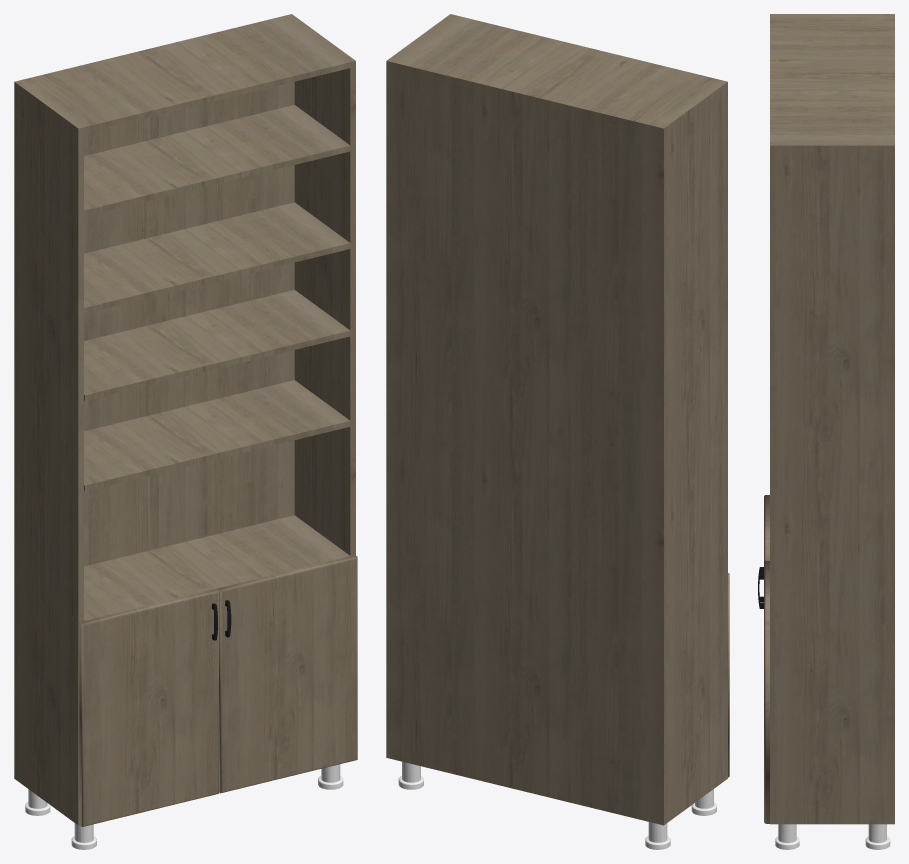
3 renders of one model, left to right at view 1: azimuth 30°, elevation 25°; view 2: azimuth 150°, elevation 25°; view 3: azimuth 270°, elevation 25°, orthographic. The views are drawn at different scales.
Visible parts, largest first — view 1: Box034, Box035, Box042, Box036, Box037, Box039, Box038, Box040; view 2: Box034; view 3: Box034, Box042, Cylinder012, Cylinder013, Box035.
Part boxes in pixels (box(x1,y1,x2,y2)): Box034: box(14, 14, 355, 825); Box035: box(79, 588, 218, 826); Box042: box(217, 555, 357, 793); Box036: box(84, 380, 351, 491); Box037: box(84, 290, 351, 400); Box039: box(84, 202, 350, 313); Box038: box(84, 105, 350, 216); Box040: box(84, 515, 349, 620); Box034: box(386, 14, 727, 825); Box034: box(770, 14, 894, 824); Box042: box(764, 560, 769, 823); Cylinder012: box(865, 824, 890, 849); Cylinder013: box(775, 824, 799, 849); Box035: box(764, 495, 769, 561).
Bounding box in the file's own units: 1 × 2.5 × 0.4389.
3 materials, 1 textured.
